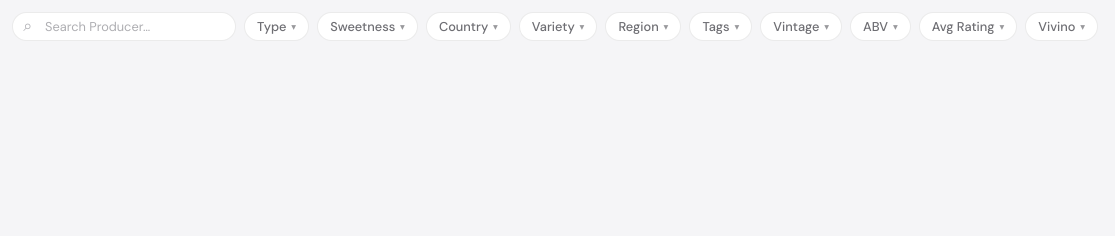
Test: country dropdown includes Old World and New World special options
Click the button with test id "filter-dropdown-country": (468, 26) [426, 12, 511, 41]
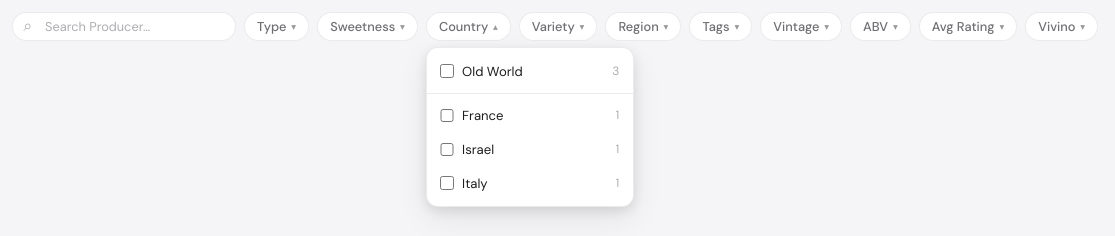
Expected: the text "Old World" is shown, [462, 61, 523, 82]
